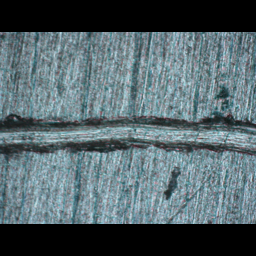d: (1, 112, 256, 160)
